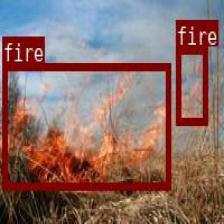fire: (2, 63, 169, 188), (175, 45, 207, 124)
